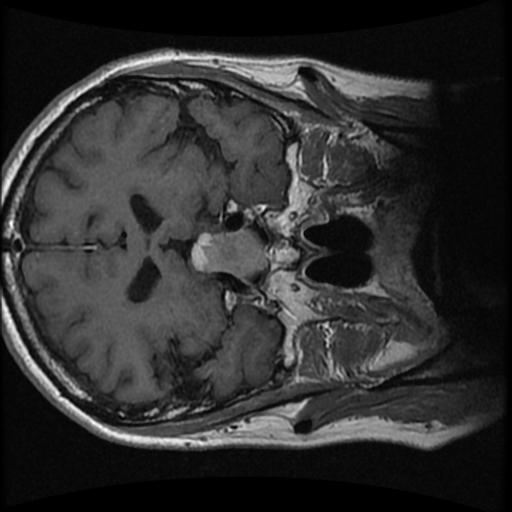pituitary tumour: (189, 228, 265, 277)
